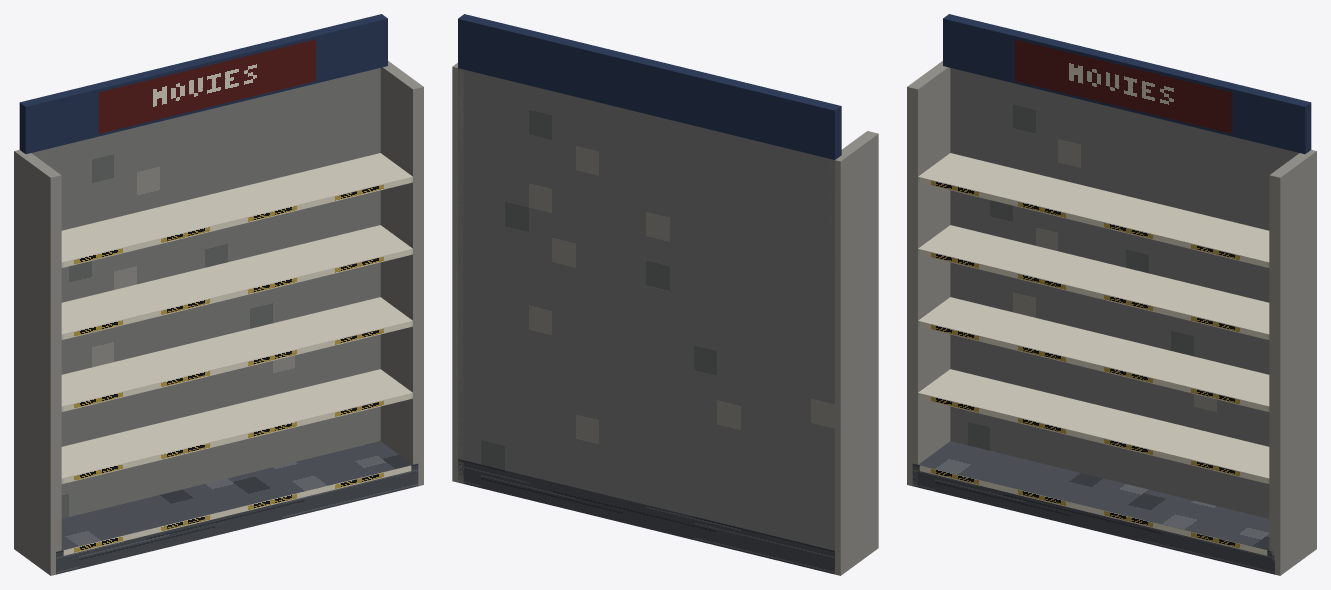
The model's file is COM_GameWallShelf_Movies.glb.
The picture shows the model from 3 angles, left to right: view 1: azimuth 30°, elevation 25°; view 2: azimuth 150°, elevation 25°; view 3: azimuth 330°, elevation 25°; orthographic projection. The views are drawn at different scales.
Visible parts, largest first — view 1: COM_GameWallShelf_Movies_Mesh; view 2: COM_GameWallShelf_Movies_Mesh; view 3: COM_GameWallShelf_Movies_Mesh.
Part boxes in pixels (x1=…): COM_GameWallShelf_Movies_Mesh: x1=14, y1=14, x2=423, y2=575; COM_GameWallShelf_Movies_Mesh: x1=452, y1=14, x2=878, y2=575; COM_GameWallShelf_Movies_Mesh: x1=907, y1=14, x2=1316, y2=575.
Size of what is drawn, in the model's own units: 2.06 by 2.35 by 0.351.
Materials: 1 (1 with a texture image).
